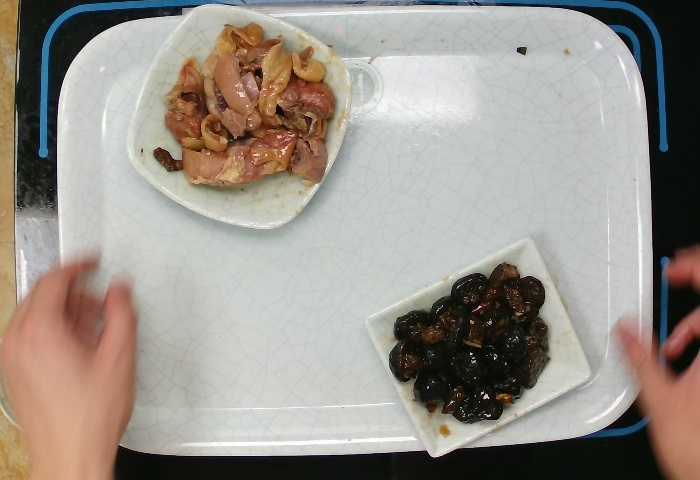WCQzf-Da_Si_Fang_Die: (125, 4, 353, 230)
WCQzf-Ru_Ci_Si_Fang_Die: (364, 237, 591, 463)
